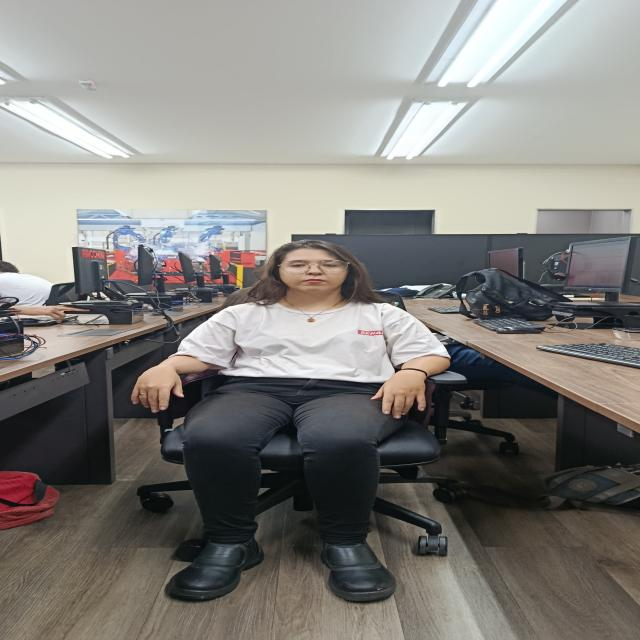sem_oculos: (278, 260, 350, 274)
